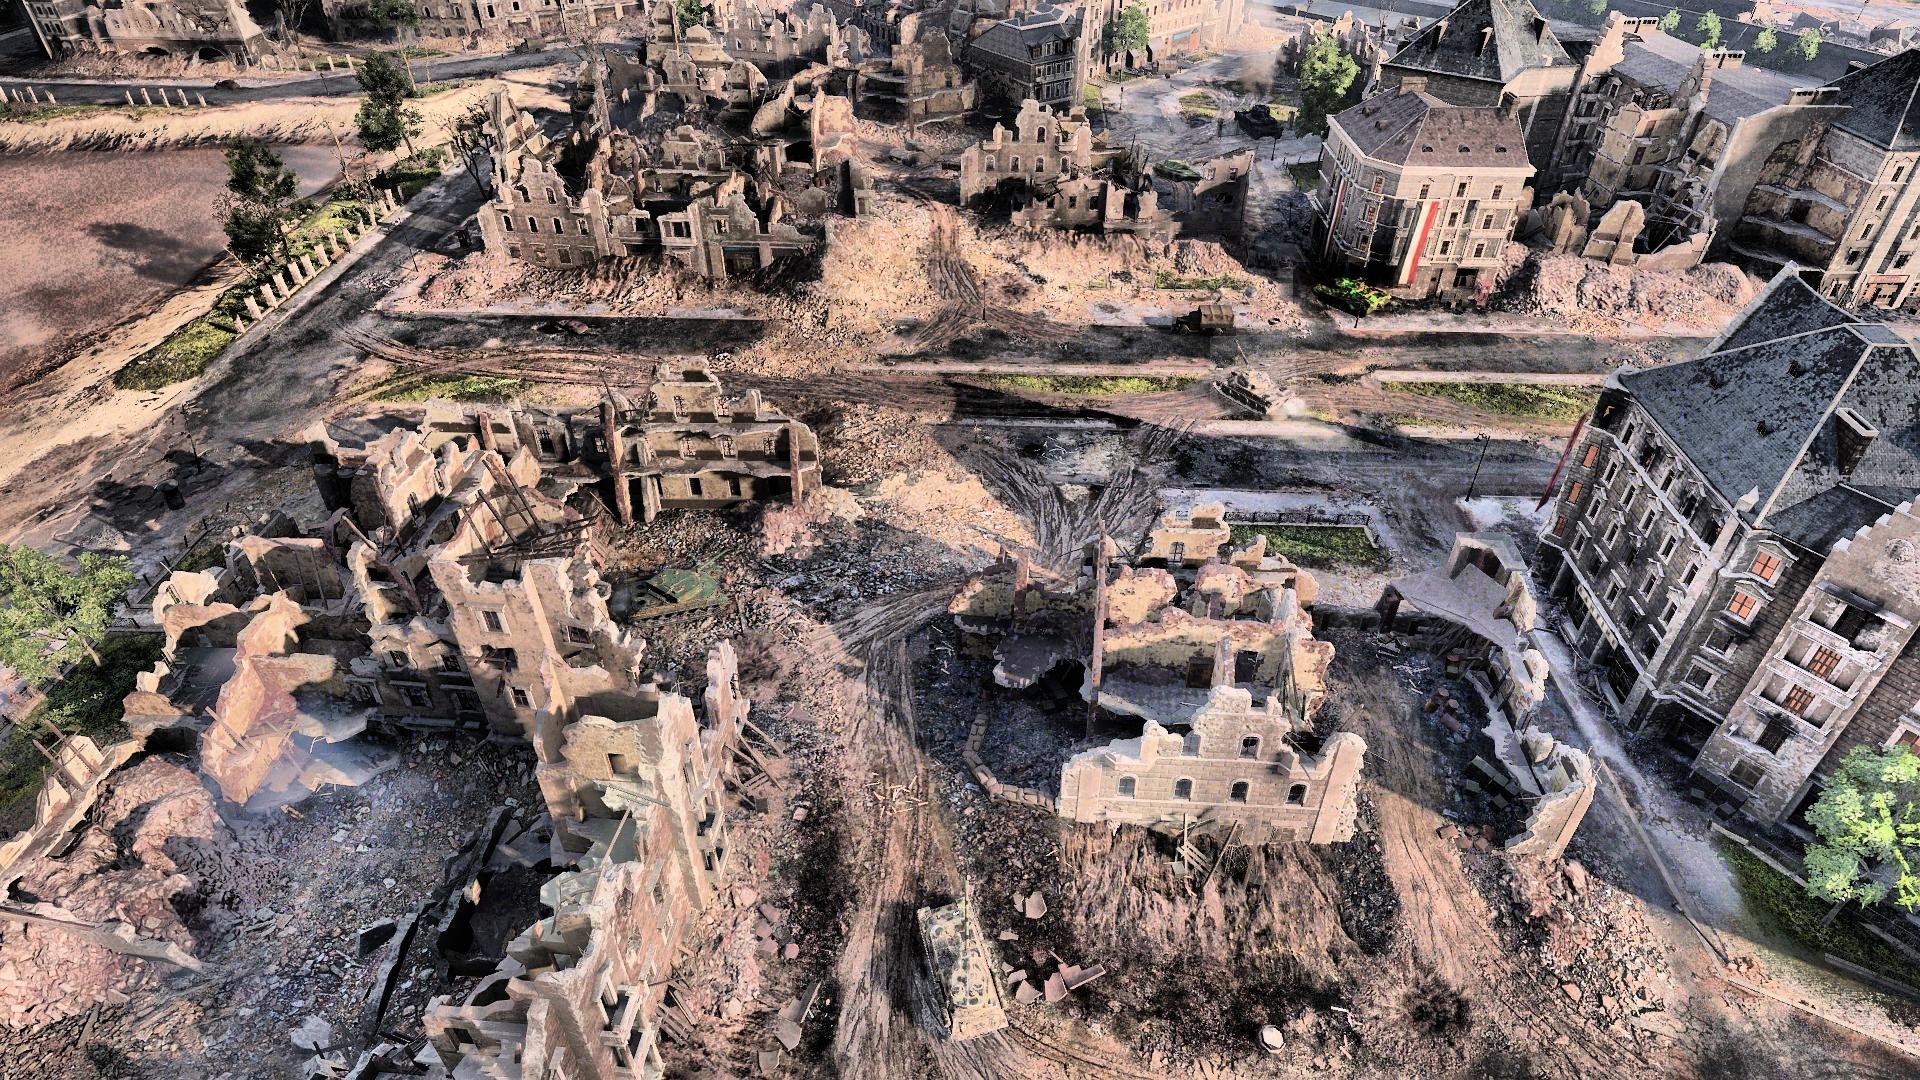military-vehicle: (918, 873, 1011, 1038), (626, 543, 738, 620), (1211, 335, 1296, 415), (1294, 262, 1394, 318), (1172, 303, 1236, 336), (886, 138, 945, 167), (1153, 160, 1203, 185)
